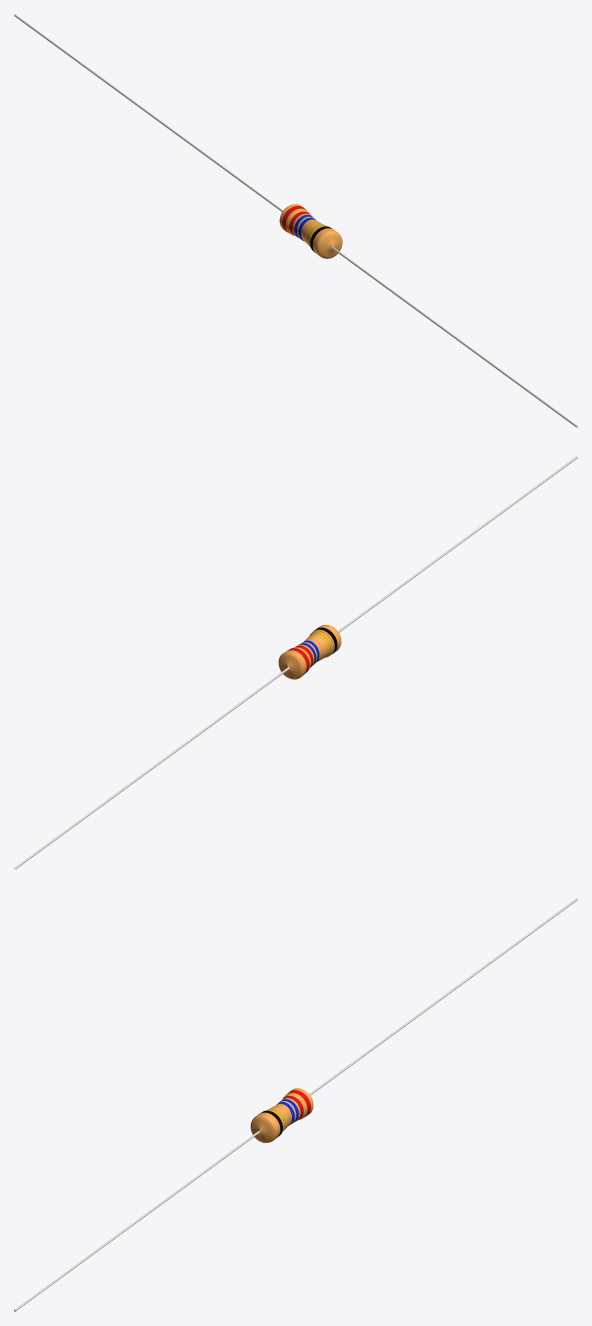
3 views of the same model, one above another, from view 1: azimuth 30°, elevation 25°; view 2: azimuth 150°, elevation 25°; view 3: azimuth 330°, elevation 25° (orthographic).
Visible parts, largest first — view 1: 針金, 本体; view 2: 針金, 本体; view 3: 針金, 本体.
Boxes of the visible parts, <box> form: 針金: <box>14,14,577,427</box>; 本体: <box>279,204,342,258</box>; 針金: <box>14,456,577,869</box>; 本体: <box>278,624,341,679</box>; 針金: <box>14,898,577,1311</box>; 本体: <box>250,1088,313,1142</box>.
Size of the model in its own units: 8.53 by 318 by 8.53.
